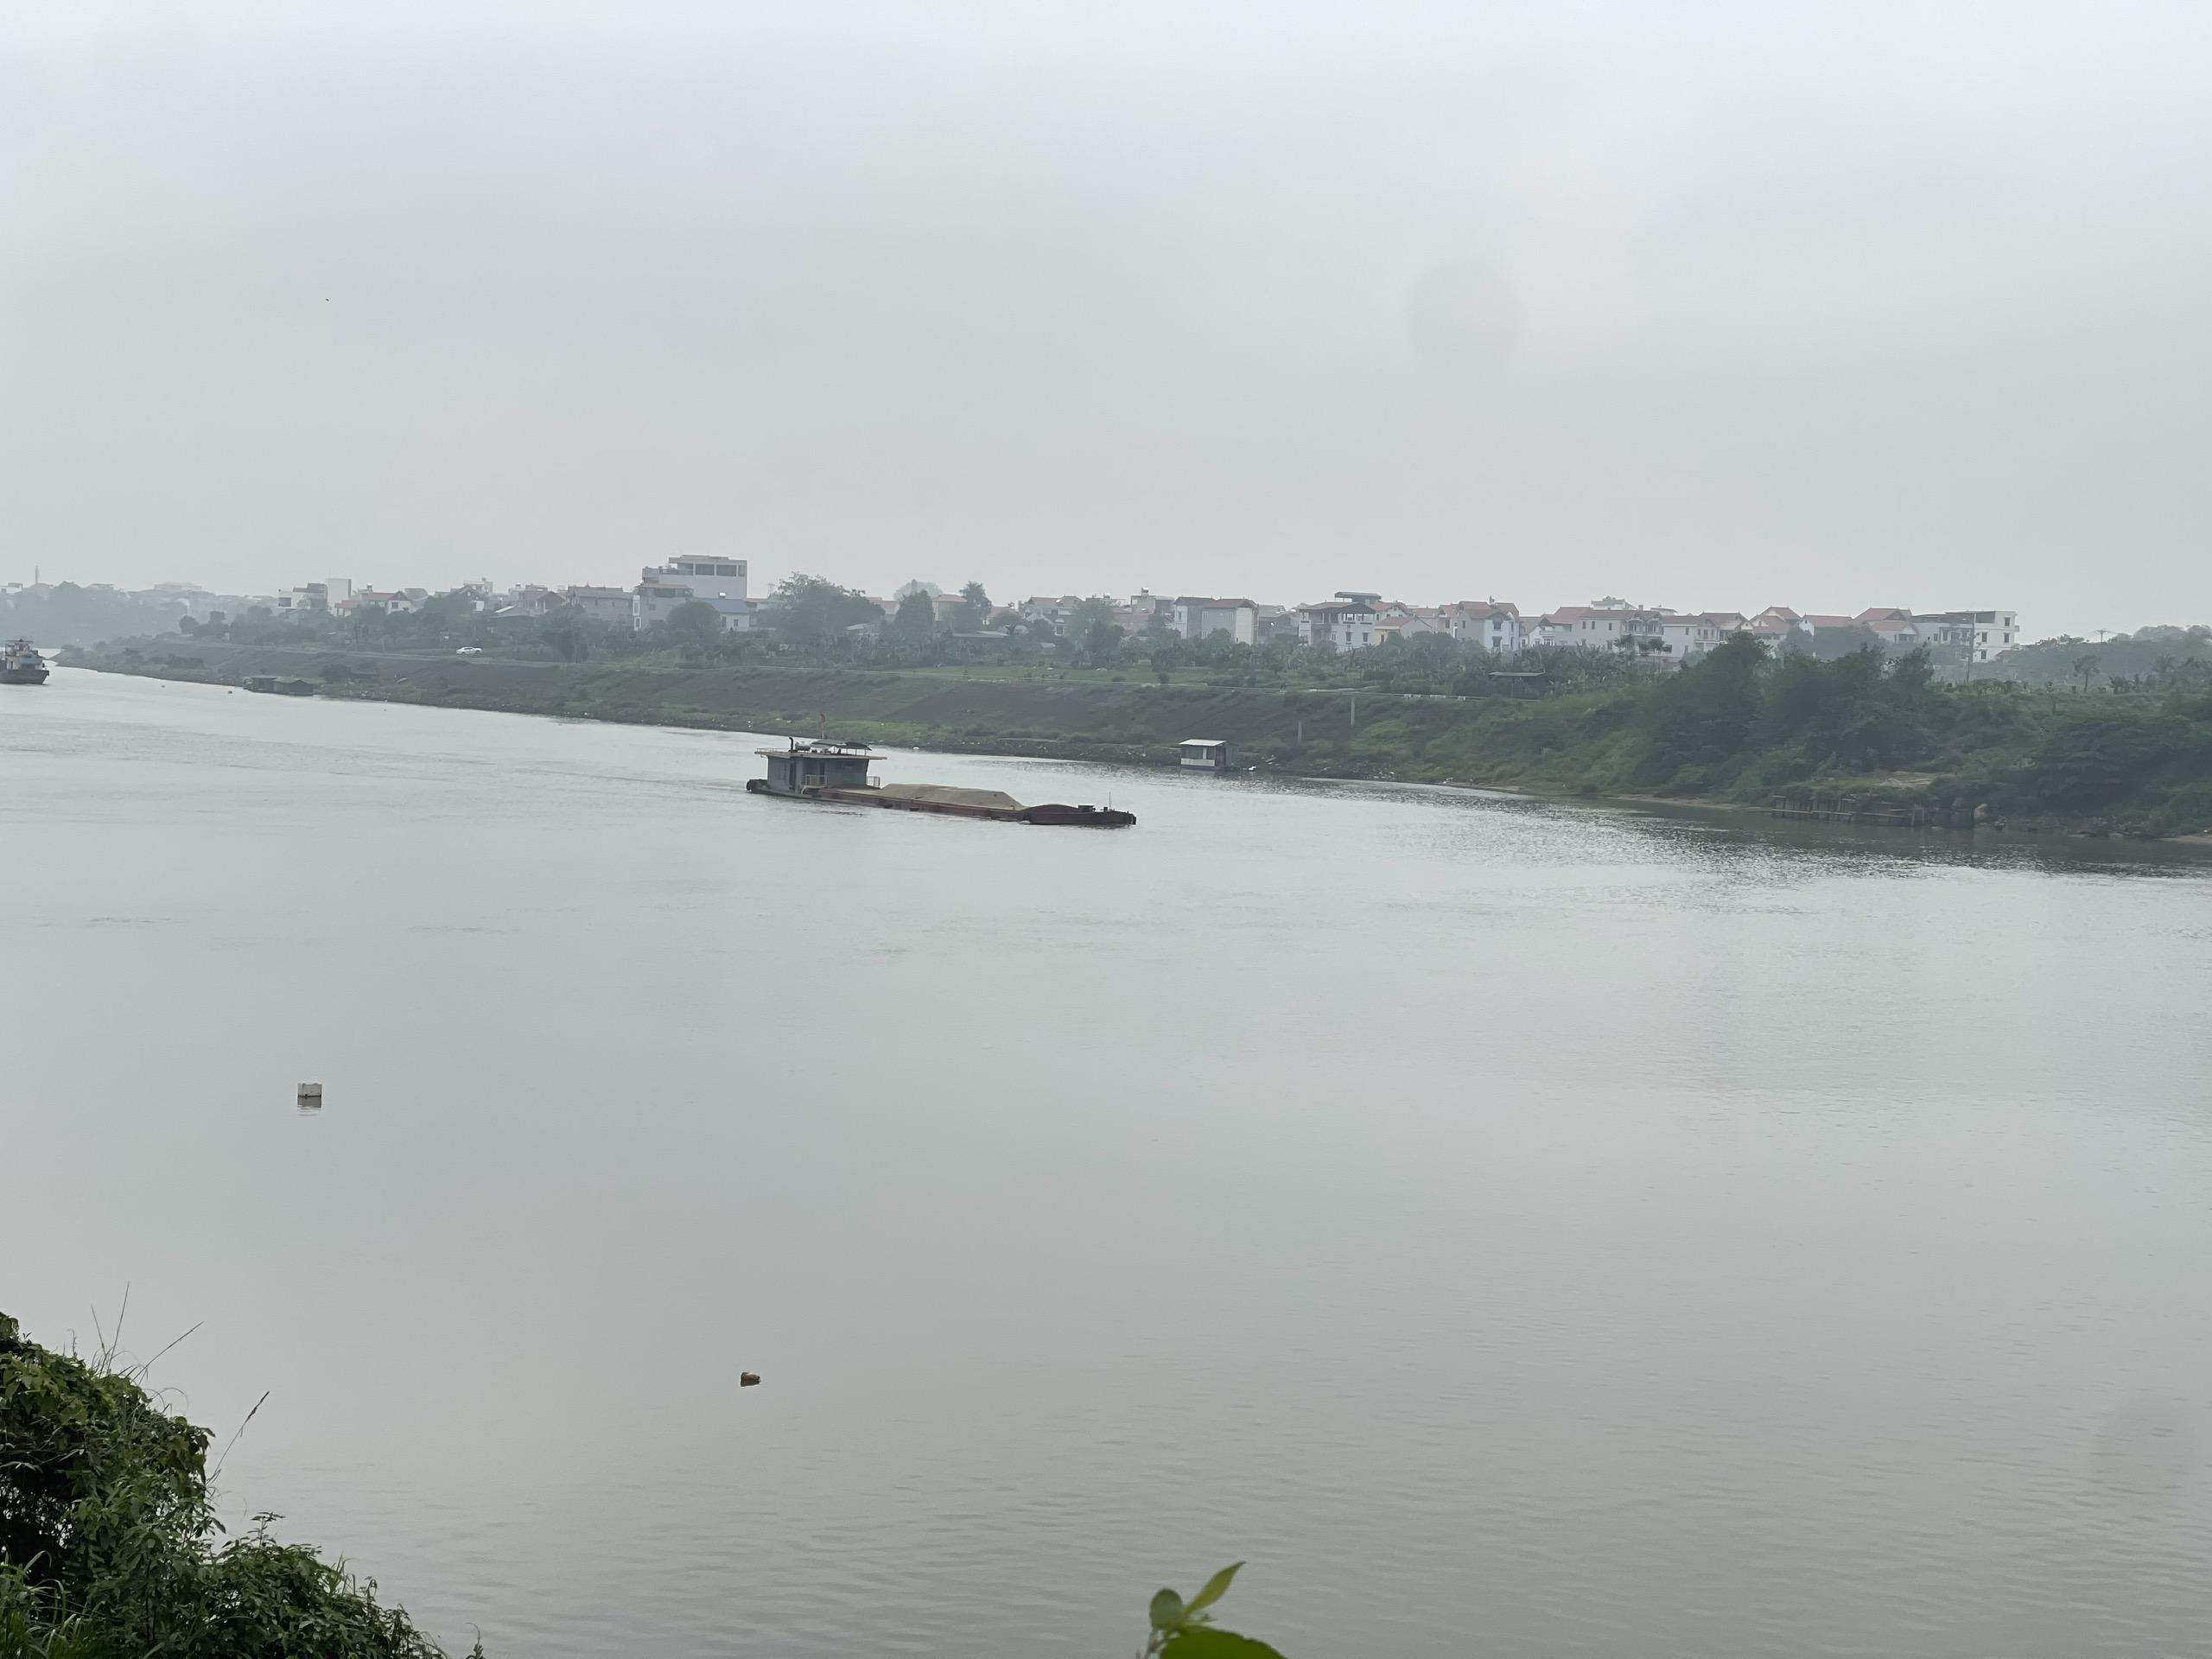Ship: (745, 730, 1146, 840)
